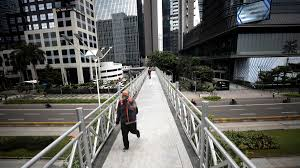mask: (118, 87, 133, 102)
